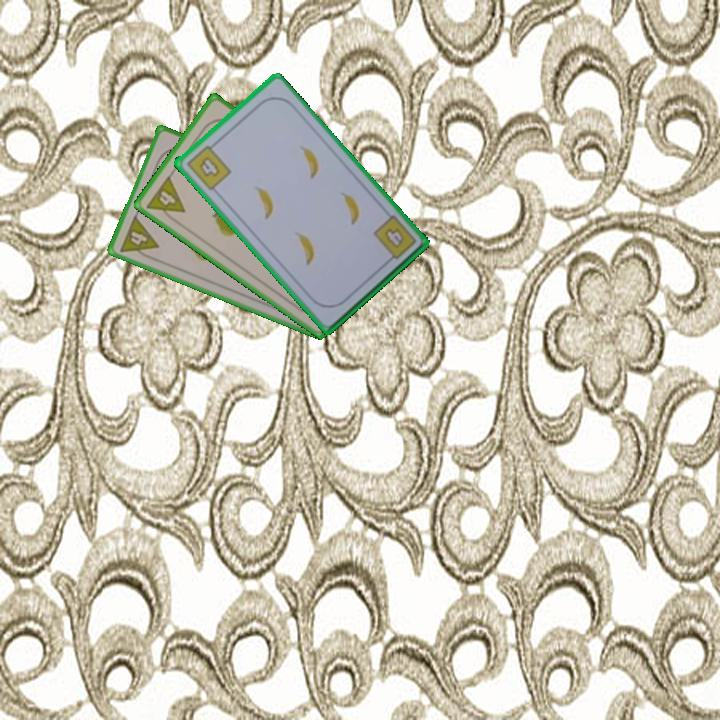4b: (182, 139, 234, 193), (380, 224, 407, 252)
4p: (142, 172, 188, 226), (116, 212, 161, 263)
